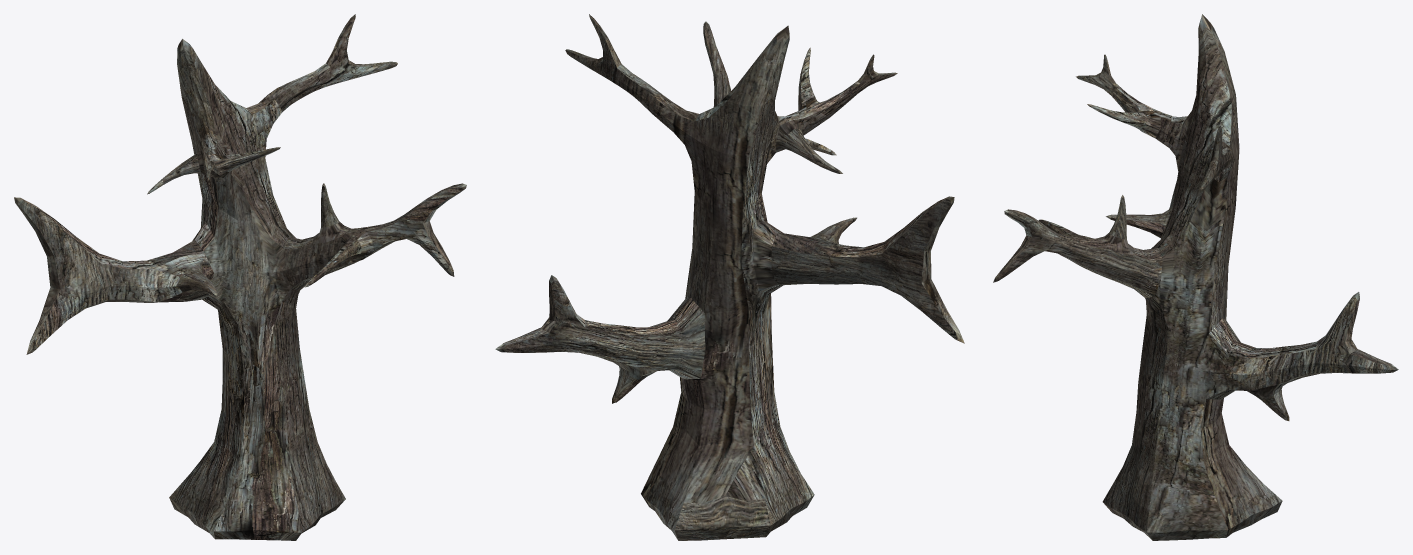
Rendered from Arbre_mort_v2.fbx.
3 views of the same model, side by side, from view 1: azimuth 30°, elevation 25°; view 2: azimuth 150°, elevation 25°; view 3: azimuth 270°, elevation 25° (orthographic). The views are drawn at different scales.
Visible parts, largest first — view 1: Cylinder; view 2: Cylinder; view 3: Cylinder.
Boxes of the visible parts, left/top/right/bottom form: Cylinder: left=14, top=14, right=466, bottom=540; Cylinder: left=495, top=14, right=964, bottom=540; Cylinder: left=993, top=14, right=1398, bottom=540.
Size of the model in its own units: 386 by 479 by 371.
1 material, 1 textured.
